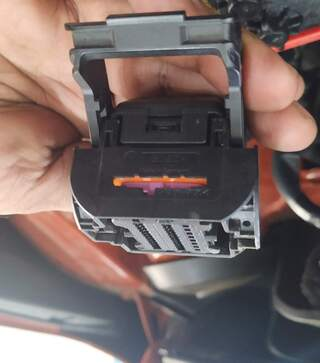connector: (70, 46, 260, 259)
